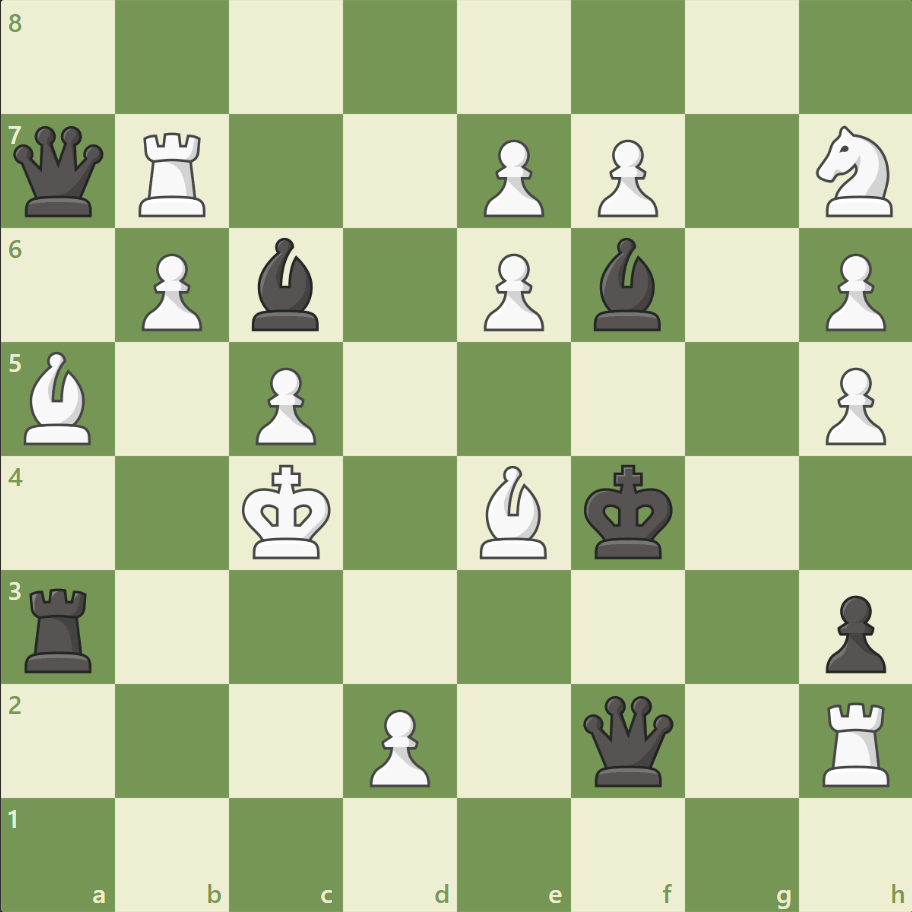B: (471, 460, 555, 563), (17, 347, 101, 449)
K: (238, 458, 338, 566)
N: (806, 121, 903, 223)
P: (474, 132, 549, 223), (133, 246, 208, 337), (474, 246, 549, 337), (247, 359, 322, 450), (588, 132, 662, 223), (815, 246, 889, 337), (815, 359, 889, 450), (361, 700, 435, 791)
R: (814, 693, 897, 790), (133, 125, 215, 222)
b: (244, 233, 328, 336), (585, 233, 669, 336)
k: (579, 458, 679, 566)
p: (815, 586, 889, 677)
q: (10, 122, 109, 222), (578, 690, 677, 789)
r: (19, 579, 102, 676)
